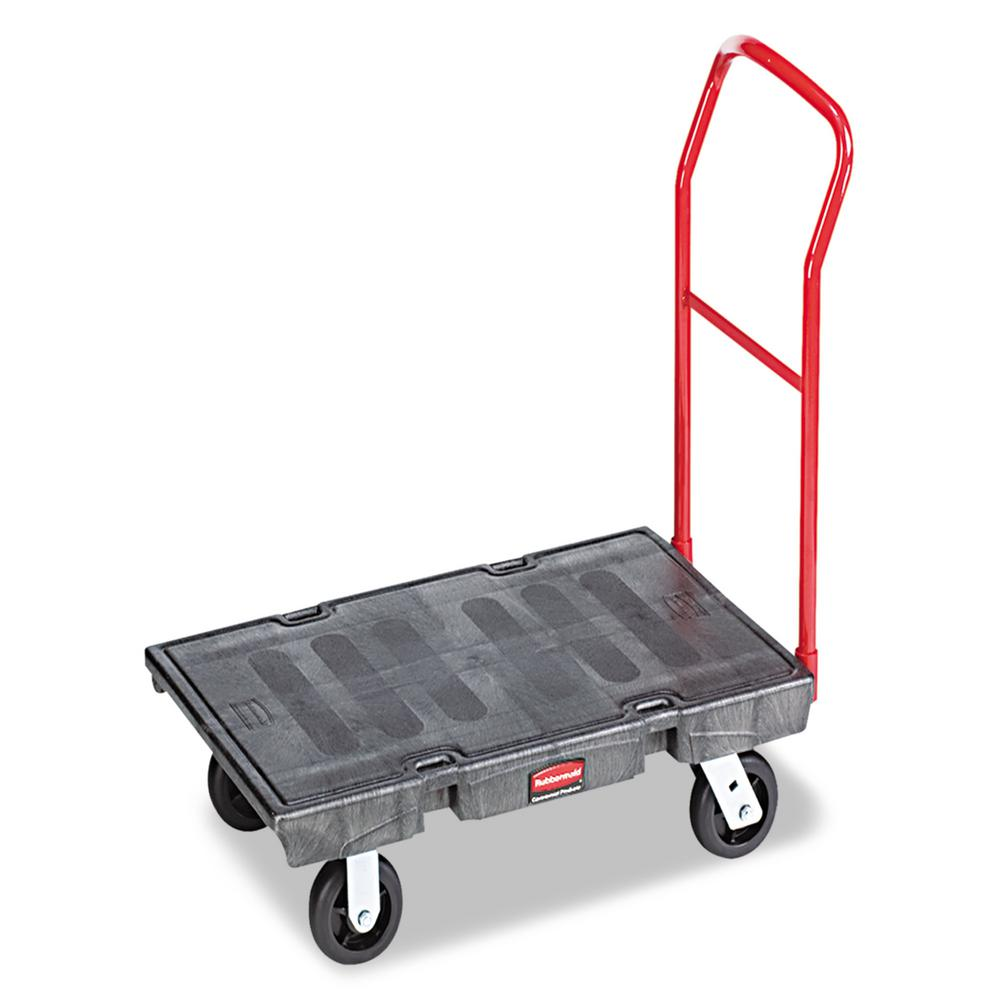Carts: (124, 30, 858, 973)
